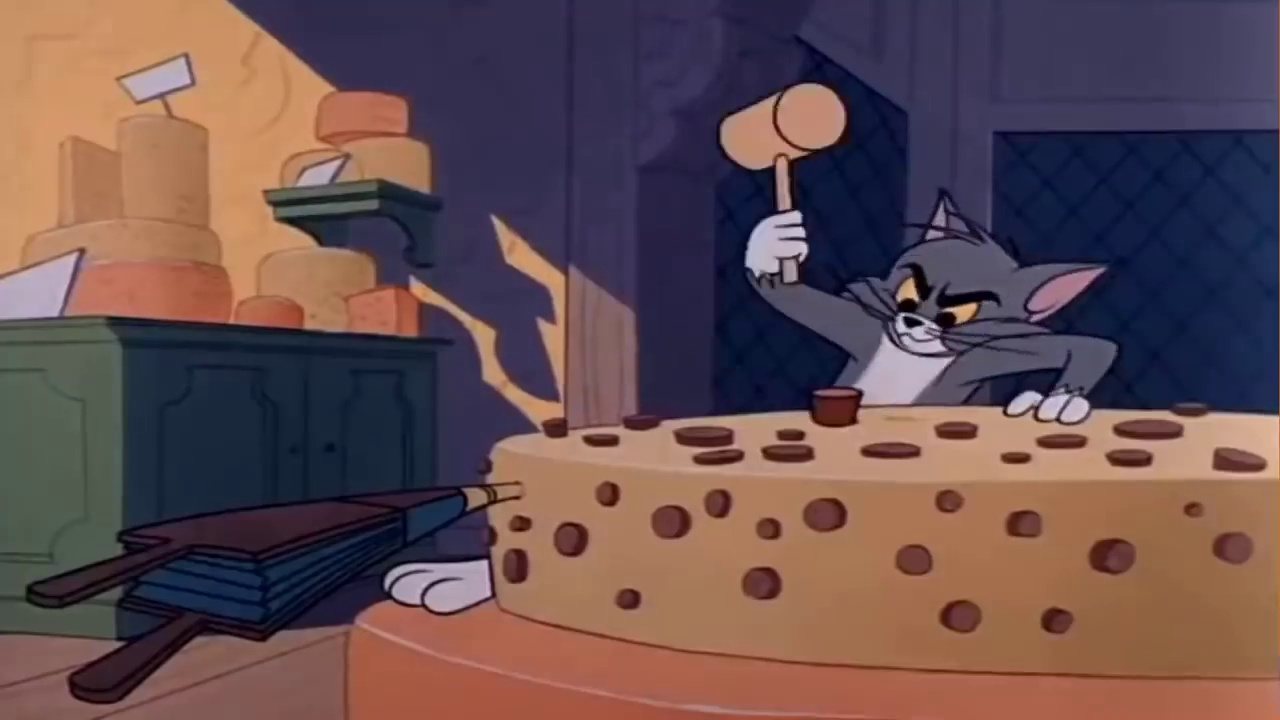face: (877, 251, 1014, 359)
